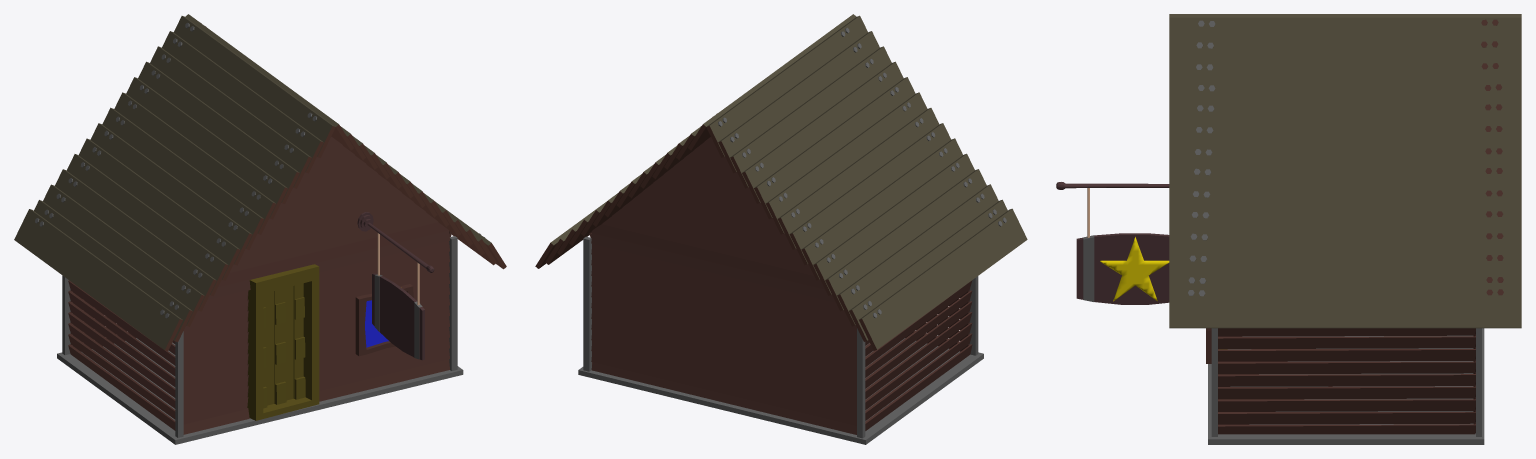
The model's file is CasaEstrela.fbx.
3 views of the same model, side by side, from view 1: azimuth 30°, elevation 25°; view 2: azimuth 150°, elevation 25°; view 3: azimuth 270°, elevation 25° (orthographic). The views are drawn at different scales.
Parts seen in each view (by area): view 1: CasaEstrela, PortaEstrela; view 2: CasaEstrela; view 3: CasaEstrela.
Boxes of the visible parts, x1,y1,x2,y2 form: CasaEstrela: (14,14,506,444); PortaEstrela: (247,264,319,420); CasaEstrela: (535,14,1027,444); CasaEstrela: (1056,14,1521,444).
Bounding box in the file's own units: 571 × 473 × 575.
